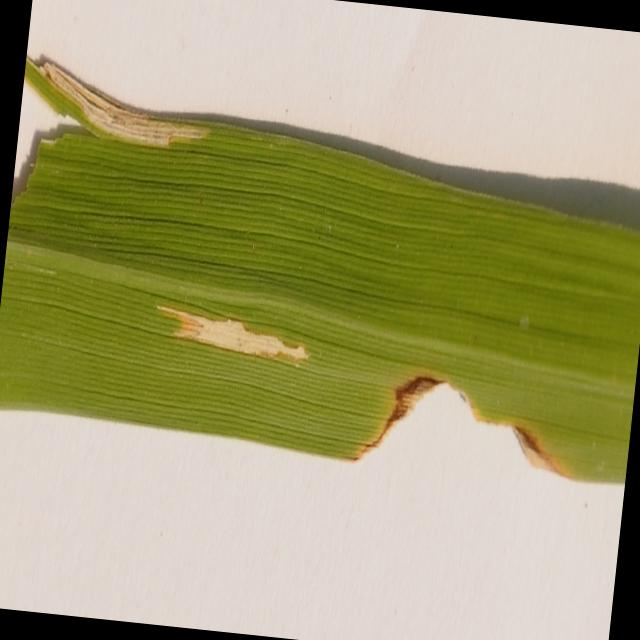leaf_blight: (0, 59, 640, 483)
